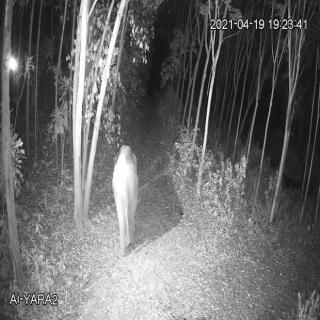Elephant: (106, 143, 143, 262)
